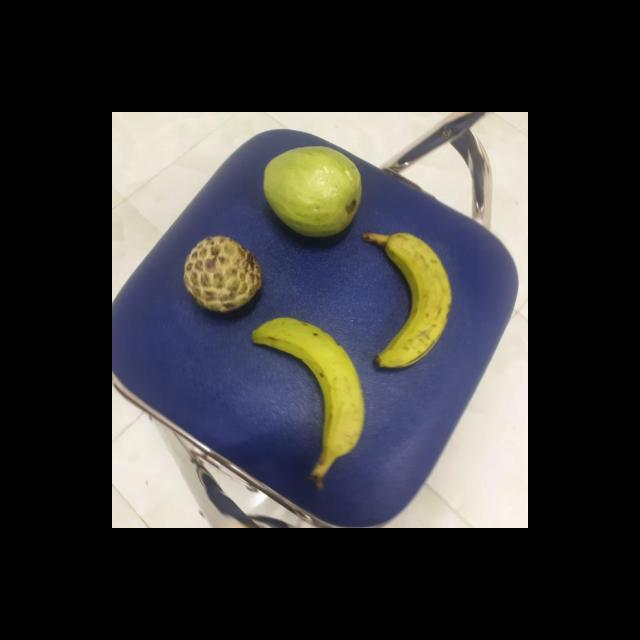Sakya fruit: (178, 235, 262, 314)
banana: (247, 317, 364, 468), (361, 229, 454, 368)
guava: (260, 144, 362, 240)
